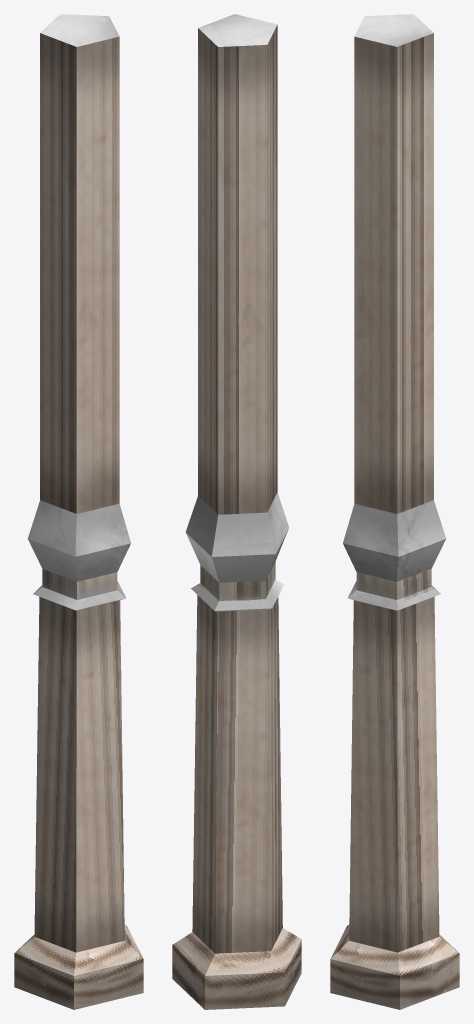
The model's file is pillar.glb.
The picture shows the model from 3 angles, left to right: view 1: azimuth 30°, elevation 25°; view 2: azimuth 150°, elevation 25°; view 3: azimuth 330°, elevation 25°; orthographic projection.
Visible parts, largest first — view 1: Cube; view 2: Cube; view 3: Cube.
Part boxes in pixels (box(x1,y1,x2,y2)): Cube: box(14, 14, 143, 1009); Cube: box(172, 14, 301, 1009); Cube: box(330, 14, 459, 1009).
Bounding box in the file's own units: 2.13 × 17.19 × 2.02.
1 material, 1 textured.
